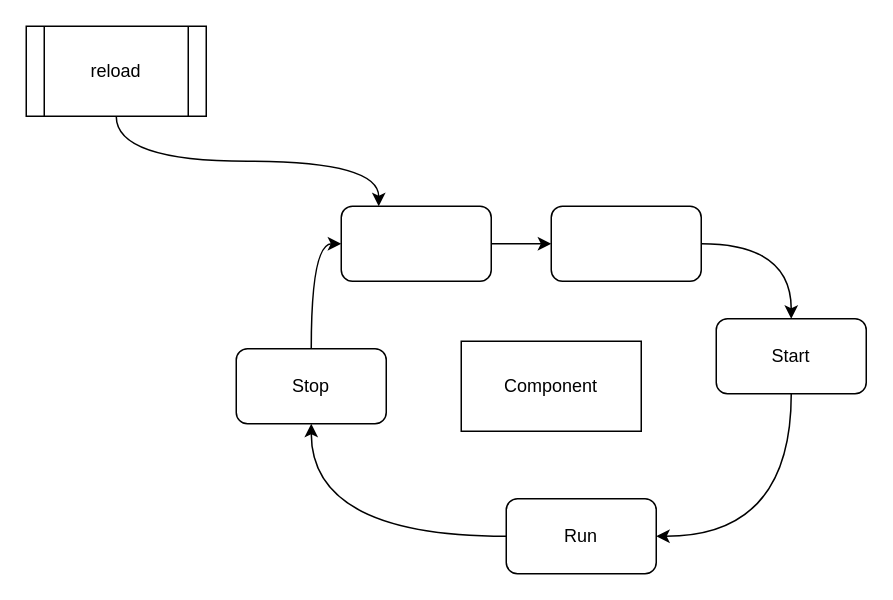
This 893x600 diagram has some shape labels left out. Each missing label, with the centre of its shape:
"Init" belongs at point 625,243.
"validate" belongs at point 415,243.
